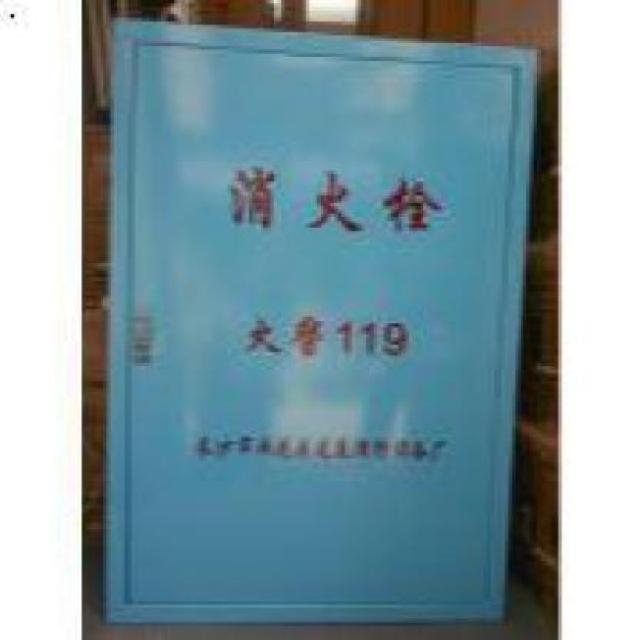firehydrant: (103, 15, 543, 633)
